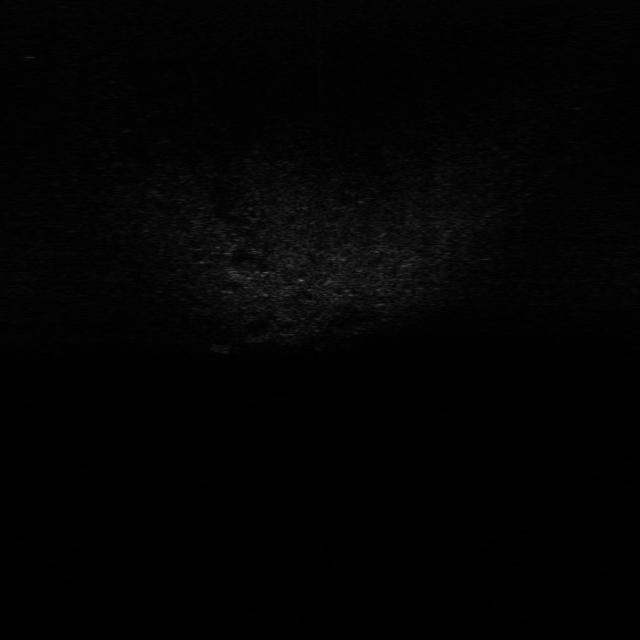cube: (211, 334, 237, 356)
